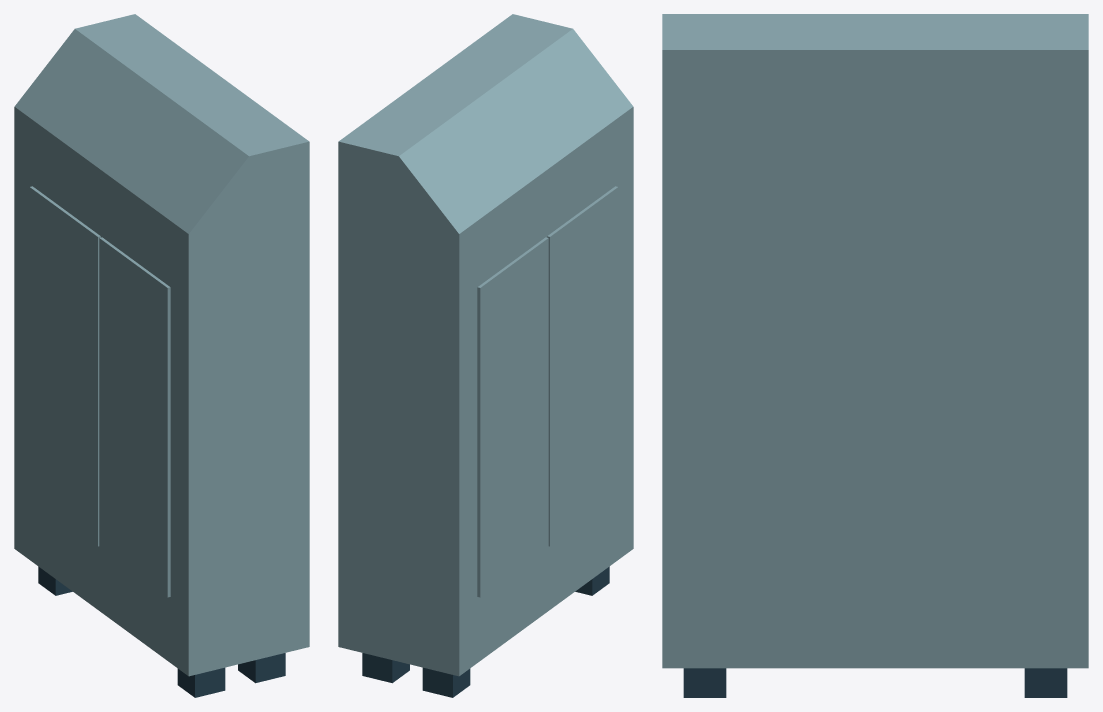
File: cabinet 2.glb
3 renders of one model, left to right at view 1: azimuth 30°, elevation 25°; view 2: azimuth 150°, elevation 25°; view 3: azimuth 270°, elevation 25°, orthographic. The views are drawn at different scales.
Visible parts, largest first — view 1: cabinet 2; view 2: cabinet 2; view 3: cabinet 2.
Part boxes in pixels (bbox=[...]): cabinet 2: bbox=[14, 14, 309, 697]; cabinet 2: bbox=[338, 14, 633, 697]; cabinet 2: bbox=[662, 14, 1088, 697].
Bounding box in the file's own units: 0.4099 × 1.7 × 1.
